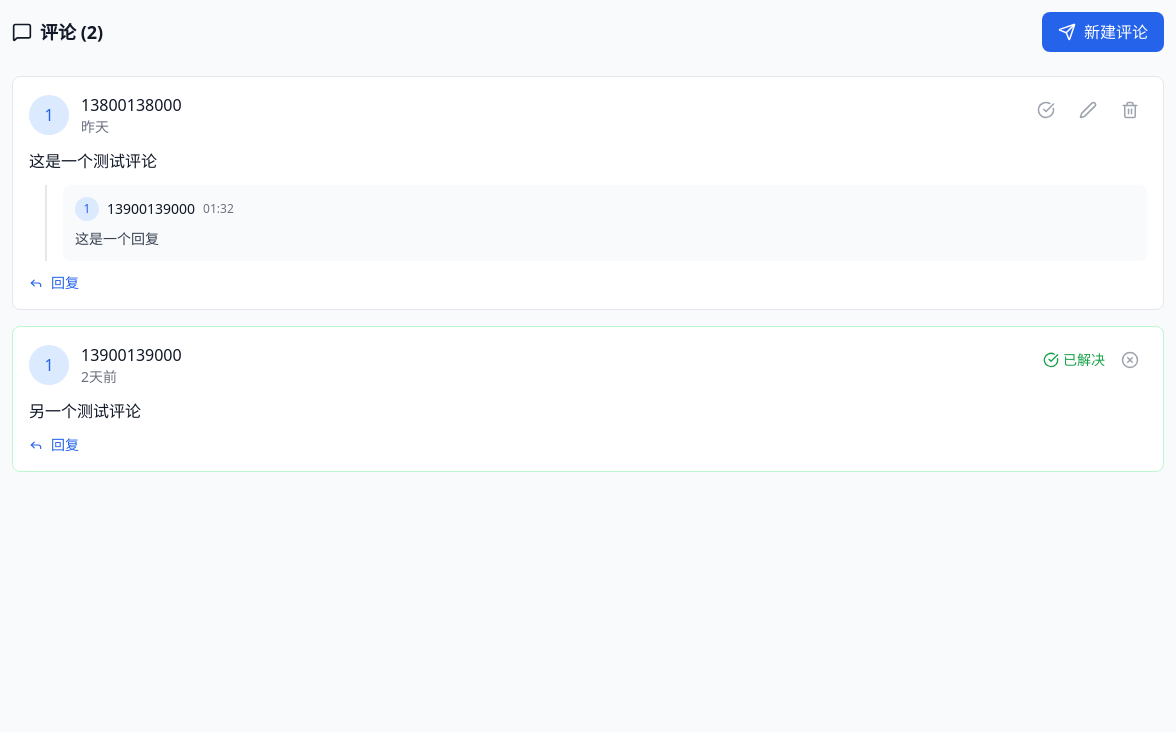
Scenario: CommentManagement组件测试 › 应该能够取消编辑评论
expect the text "这是一个测试评论" is shown: met, box [29,150,157,172]
Click the button titled "编辑": (1088, 110) [1071,93,1105,127]
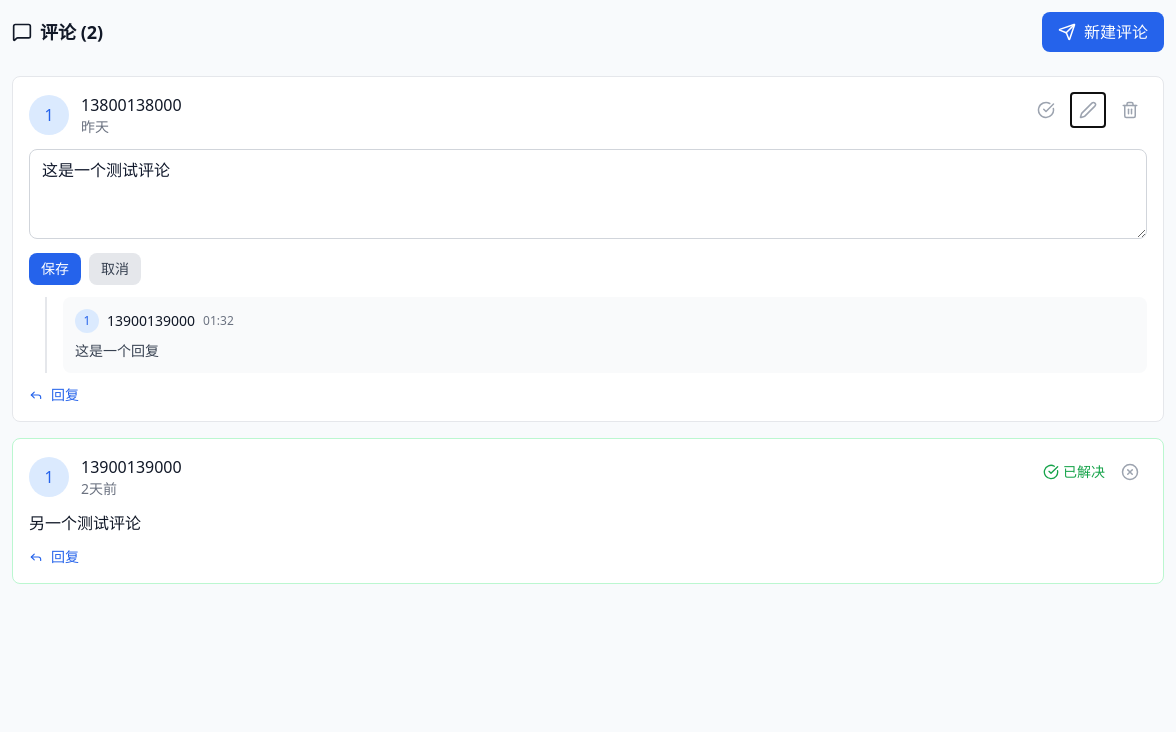
Click the button "取消": (115, 269) [89,253,141,285]
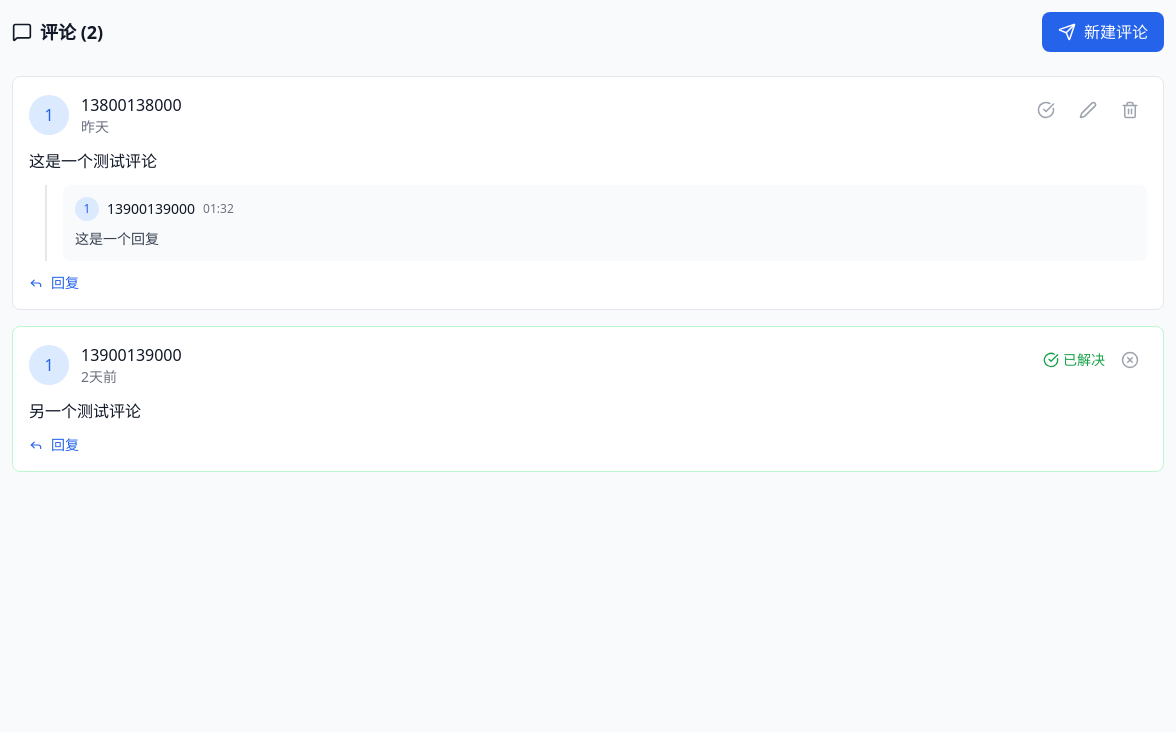
expect the text "这是一个测试评论" is shown: met, box [29,150,157,172]
